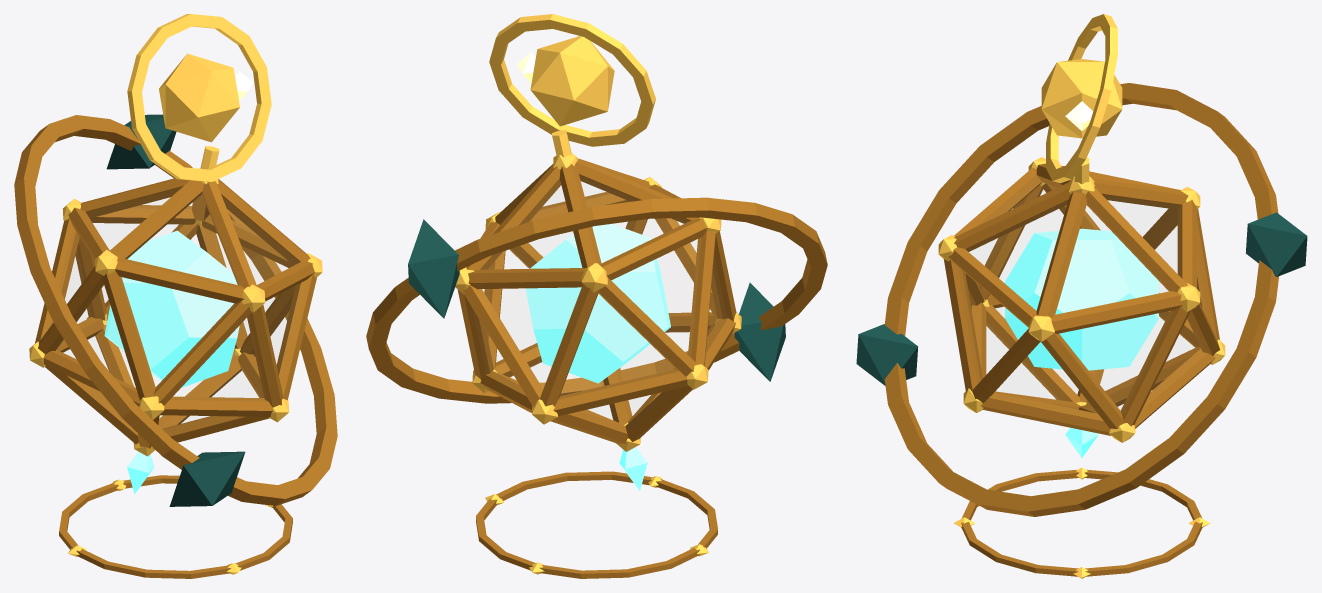
The model's file is armillary.glb.
The picture shows the model from 3 angles, left to right: view 1: azimuth 30°, elevation 25°; view 2: azimuth 150°, elevation 25°; view 3: azimuth 270°, elevation 25°; orthographic projection. The views are drawn at different scales.
Visible parts, largest first — view 1: spinInner, head, star1, spinFrame, beam13, beam20, beam10, beam17, beam9, beam22, beam18, beam21 (+51 smaller); view 2: spinInner, head, star0, spinFrame, star1, beam27, beam6, beam29, beam3, beam2, beam0, beam4 (+26 smaller); view 3: spinInner, head, spinFrame, star0, beam8, star1, beam21, beam5, beam18, beam16, beam14, beam7 (+35 smaller).
Boxes of the visible parts, x1=… form: spinInner: x1=104, y1=230, x2=239, y2=387; head: x1=159, y1=53, x2=239, y2=142; star1: x1=169, y1=451, x2=245, y2=506; spinFrame: x1=29, y1=167, x2=322, y2=456; beam13: x1=102, y1=271, x2=155, y2=400; beam20: x1=115, y1=258, x2=245, y2=303; beam10: x1=153, y1=301, x2=251, y2=405; beam17: x1=276, y1=274, x2=316, y2=400; beam9: x1=159, y1=396, x2=273, y2=416; beam22: x1=109, y1=180, x2=203, y2=258; beam18: x1=202, y1=181, x2=257, y2=287; beam21: x1=217, y1=179, x2=310, y2=265; spinInner: x1=525, y1=224, x2=670, y2=383; head: x1=530, y1=36, x2=614, y2=126; star0: x1=408, y1=219, x2=459, y2=318; spinFrame: x1=455, y1=152, x2=741, y2=451; star1: x1=734, y1=282, x2=785, y2=381; beam27: x1=553, y1=369, x2=688, y2=416; beam6: x1=462, y1=285, x2=543, y2=406; beam29: x1=688, y1=230, x2=715, y2=366; beam3: x1=598, y1=277, x2=696, y2=376; beam2: x1=540, y1=284, x2=598, y2=406; beam0: x1=468, y1=268, x2=583, y2=289; beam4: x1=600, y1=218, x2=706, y2=280; spinInner: x1=1005, y1=228, x2=1158, y2=370; head: x1=1041, y1=59, x2=1122, y2=138; spinFrame: x1=938, y1=157, x2=1225, y2=442; star0: x1=1245, y1=212, x2=1307, y2=276; beam8: x1=1051, y1=291, x2=1182, y2=333; star1: x1=856, y1=324, x2=918, y2=385; beam21: x1=1036, y1=191, x2=1086, y2=317; beam5: x1=1086, y1=186, x2=1187, y2=292; beam18: x1=954, y1=182, x2=1070, y2=251; beam16: x1=981, y1=392, x2=1110, y2=435; beam14: x1=944, y1=259, x2=982, y2=392; beam7: x1=1120, y1=306, x2=1191, y2=426.
Size of the model in its own units: 1.22 by 1.73 by 1.37.
